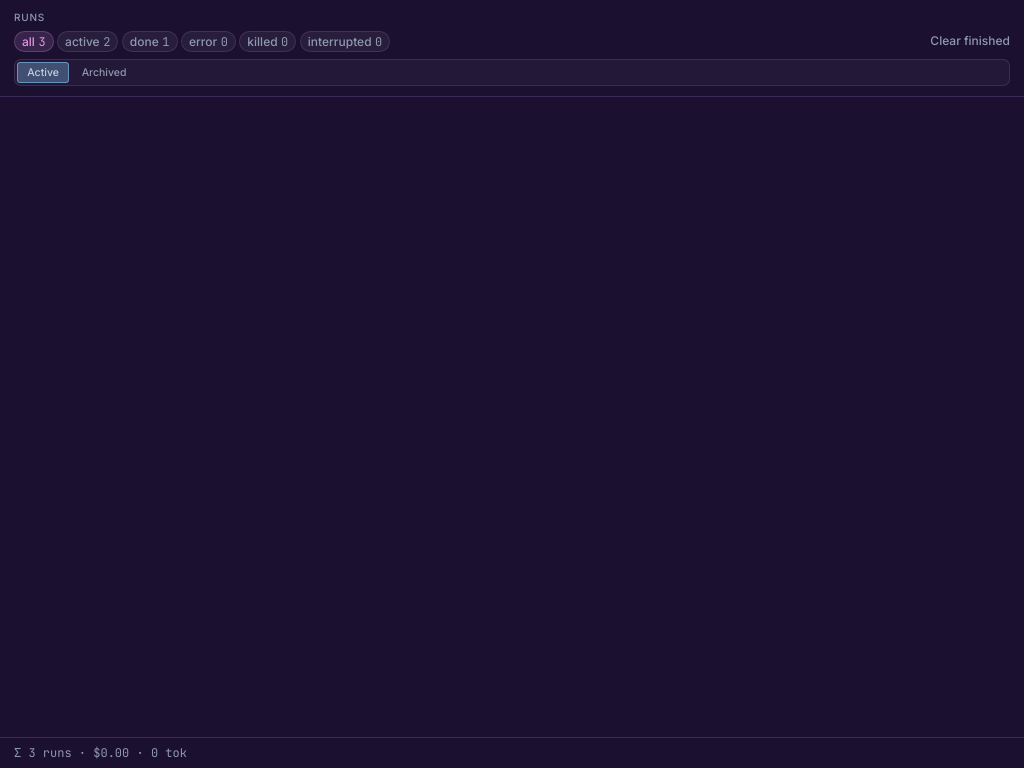
Test: RunList active filter includes parked runs (F-055) › counts an awaiting_input run under "active" and shows it when filtered
The width and height of the screenshot is (1024, 768).
Click the button with test id "run-filter-active". click: (88, 41)
box: [57, 30, 118, 52]
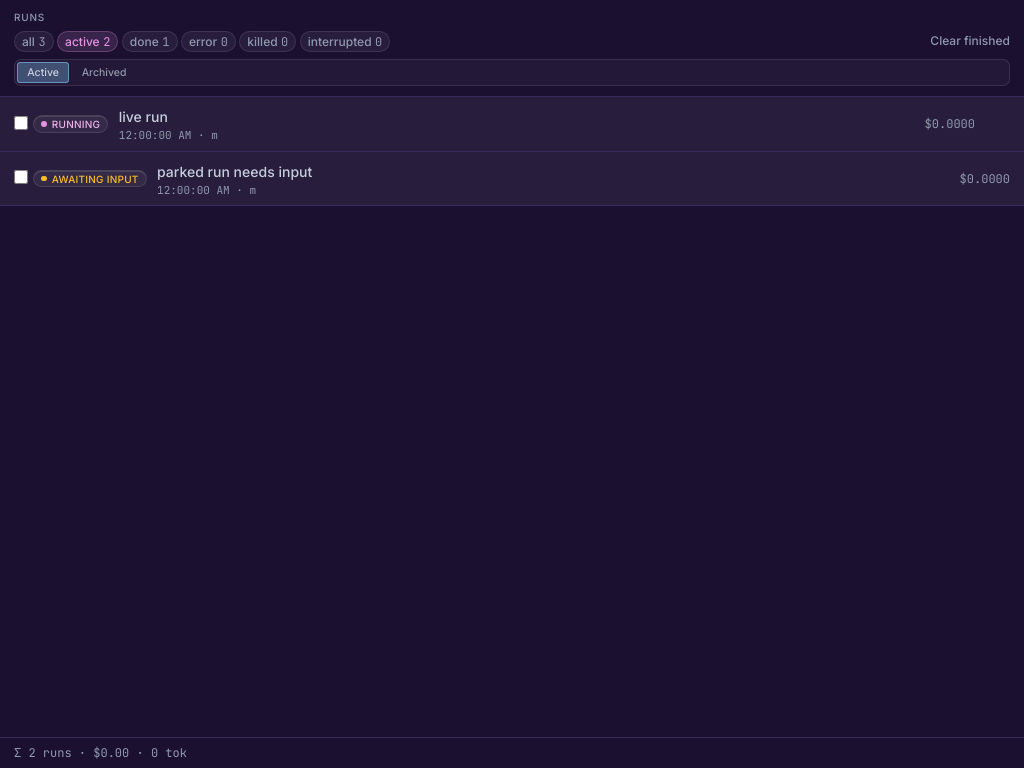
Check: the text "parked run needs input" is shown, box [157, 162, 312, 180]
Check: the text "live run" is shown, box [119, 108, 168, 125]
